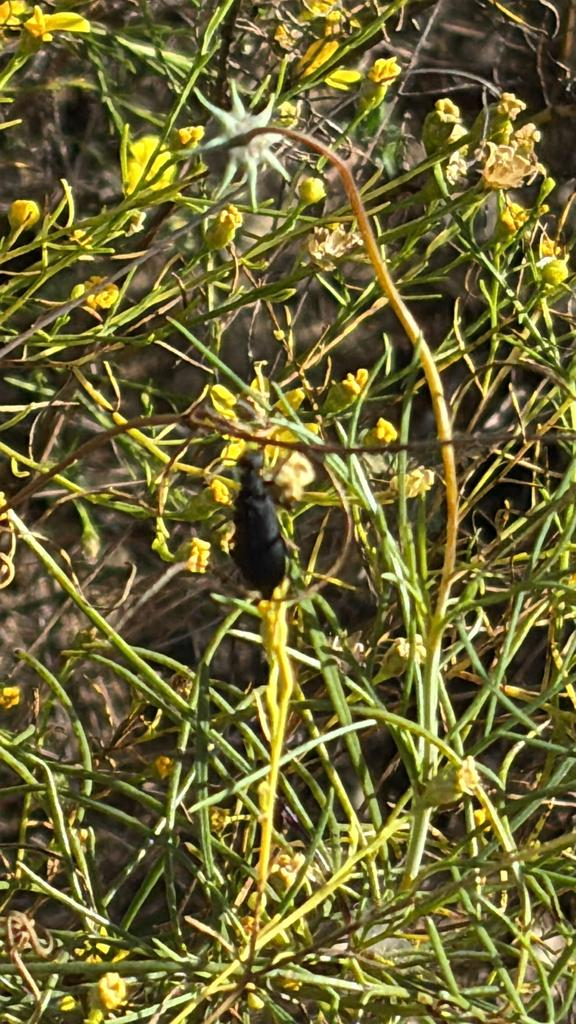blister_beetle: (183, 421, 328, 606)
